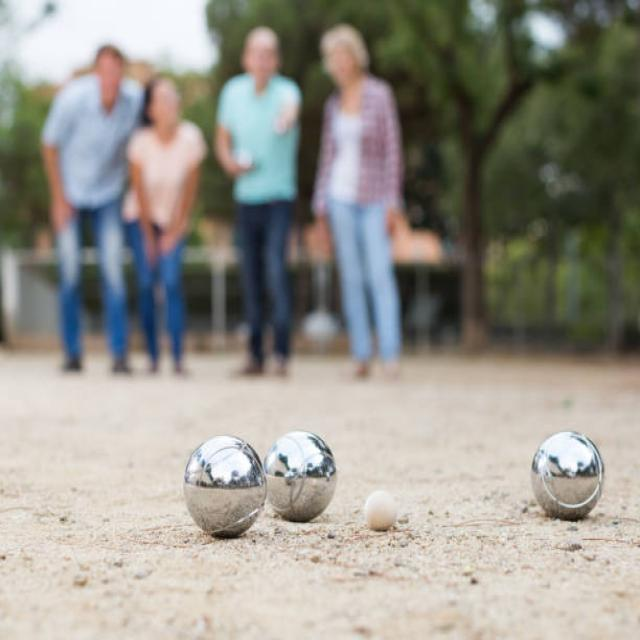hatball: (361, 489, 405, 537)
petanque: (185, 434, 264, 537), (529, 427, 607, 527), (261, 430, 338, 527)
